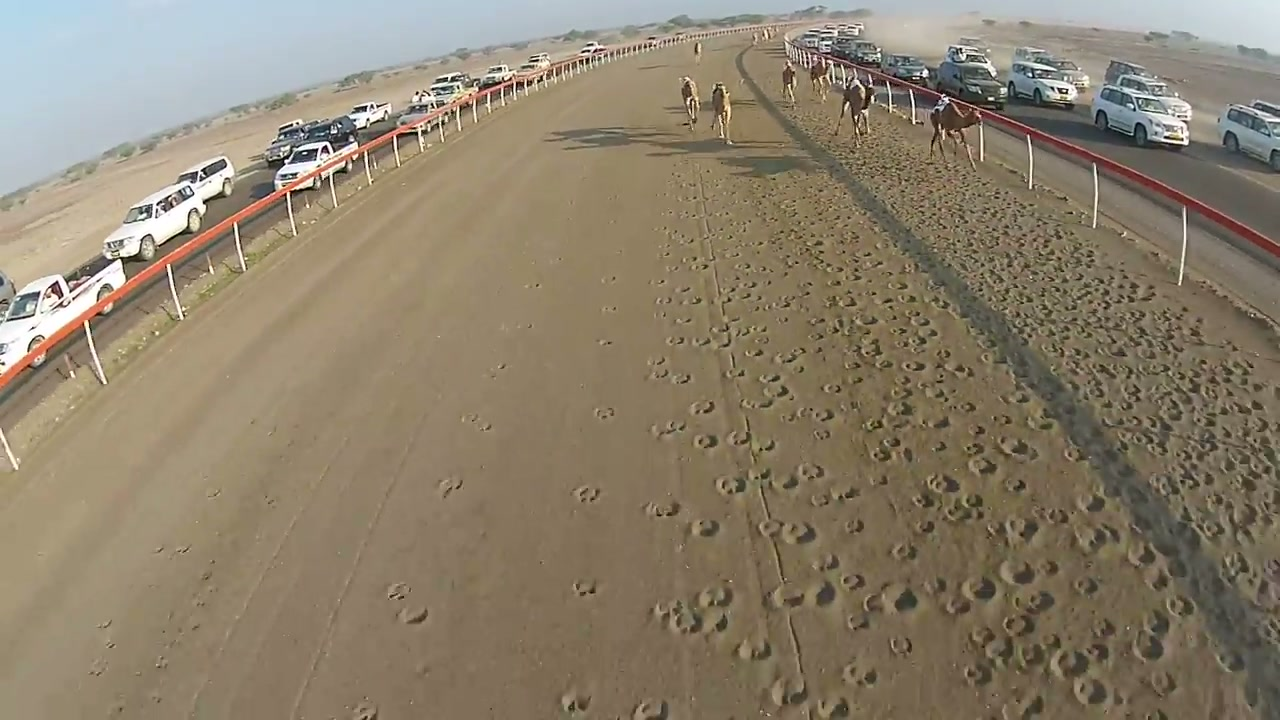animal_foot_print: (649, 133, 1279, 716), (652, 584, 734, 634), (654, 601, 728, 635), (767, 578, 837, 609), (385, 582, 428, 624), (757, 518, 816, 544), (989, 517, 1039, 546), (1048, 647, 1089, 680), (769, 674, 808, 708), (1000, 691, 1045, 719), (811, 482, 861, 506), (1072, 676, 1112, 705), (881, 583, 918, 613), (998, 558, 1035, 585), (841, 660, 878, 687), (961, 576, 998, 602), (998, 436, 1037, 460), (804, 578, 837, 606), (777, 521, 816, 544), (559, 688, 591, 716), (735, 637, 772, 661), (1145, 670, 1176, 697), (696, 585, 733, 607), (630, 699, 669, 719), (715, 475, 747, 497), (650, 420, 687, 438), (645, 500, 681, 518), (967, 455, 998, 475), (794, 462, 825, 481), (1072, 575, 1100, 596), (437, 476, 463, 498), (397, 606, 428, 624), (350, 699, 377, 719), (888, 635, 913, 656), (690, 519, 719, 537), (572, 485, 600, 503), (572, 579, 598, 598), (838, 573, 865, 591), (750, 437, 778, 454), (462, 415, 491, 431), (806, 407, 835, 422), (692, 336, 728, 348), (386, 582, 410, 600), (726, 430, 751, 447), (87, 657, 108, 676), (693, 434, 718, 449), (690, 400, 714, 415), (843, 518, 864, 534), (487, 362, 508, 378), (668, 372, 692, 384), (594, 407, 615, 420), (647, 356, 668, 367), (461, 413, 479, 424), (600, 275, 617, 284), (601, 305, 617, 313), (596, 338, 612, 346), (525, 284, 541, 288)
